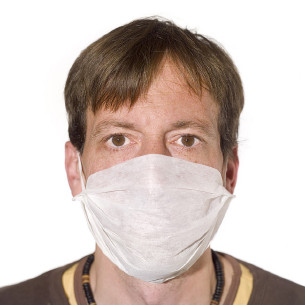face_mask: (79, 82, 229, 279)
